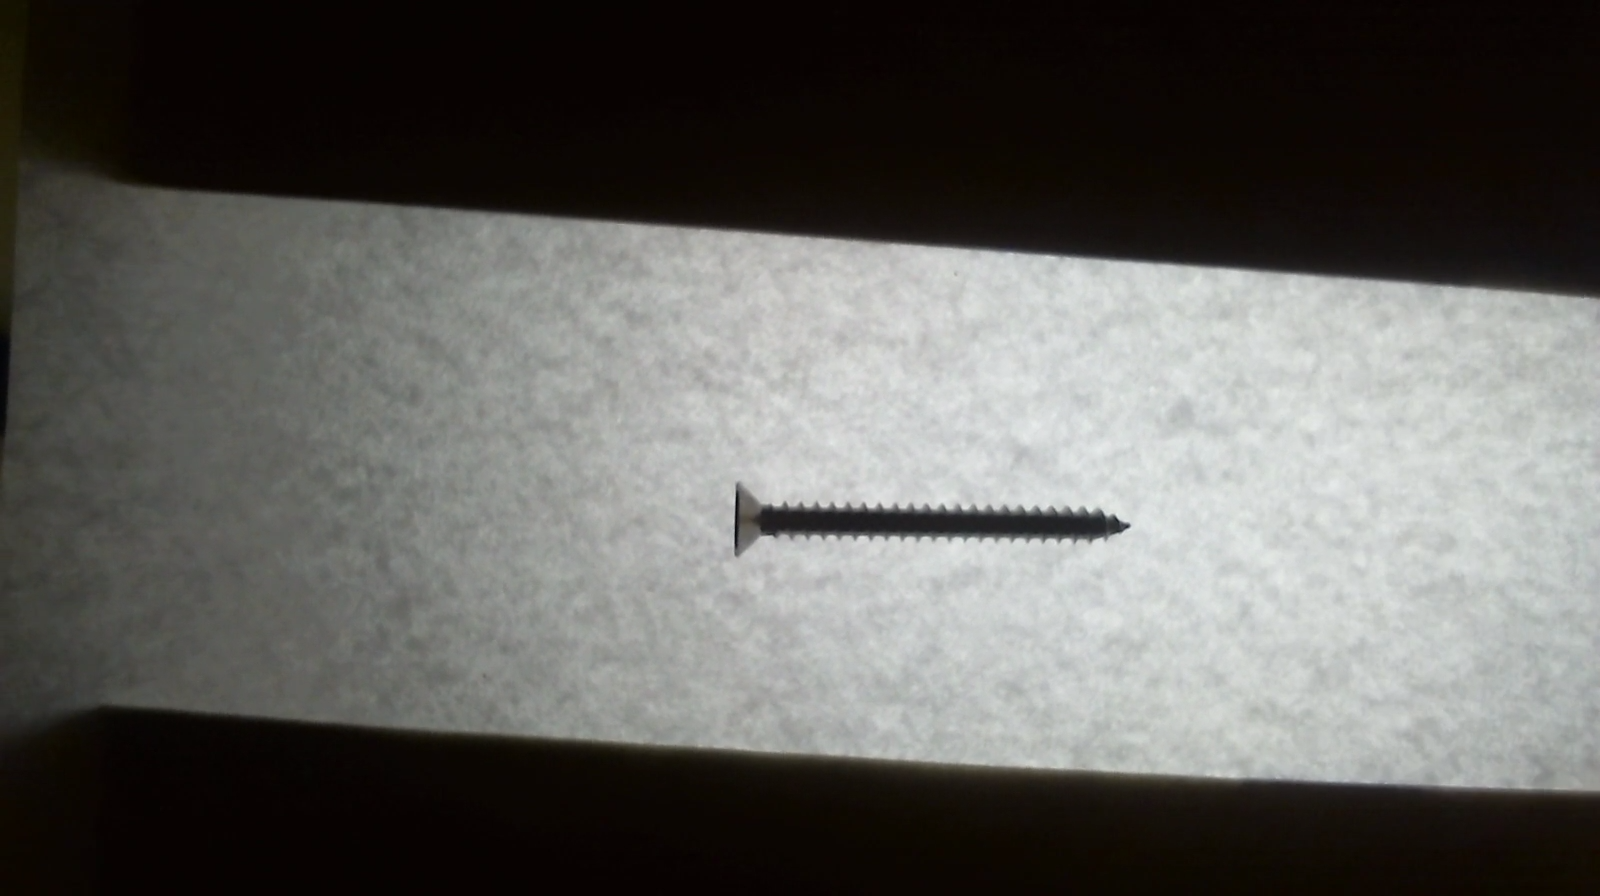S002: (724, 476, 1137, 554)
